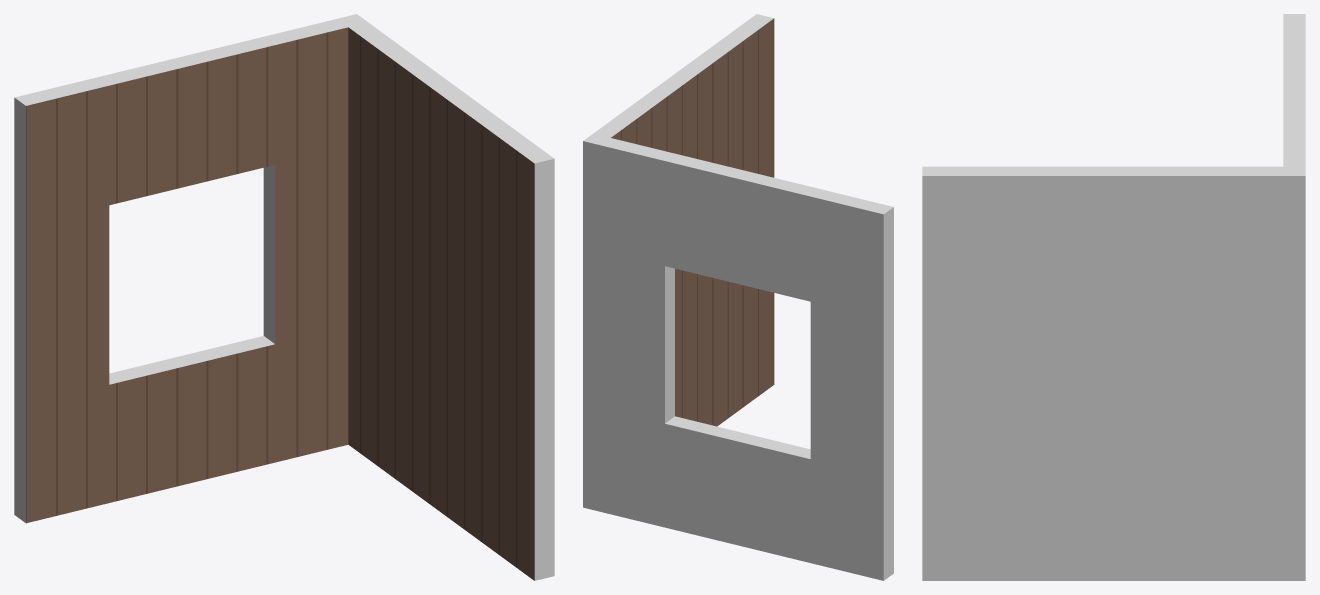
File: Wall1_C9_10.fbx
The picture shows the model from 3 angles, left to right: view 1: azimuth 30°, elevation 25°; view 2: azimuth 150°, elevation 25°; view 3: azimuth 270°, elevation 25°; orthographic projection. The views are drawn at different scales.
Visible parts, largest first — view 1: Wall1_C9_10; view 2: Wall1_C9_10; view 3: Wall1_C9_10.
Part boxes in pixels (x1,y1,x2,y2): Wall1_C9_10: (14,14,554,580); Wall1_C9_10: (583,14,893,580); Wall1_C9_10: (922,14,1305,580).
Bounding box in the file's own units: 258 × 300 × 258.
